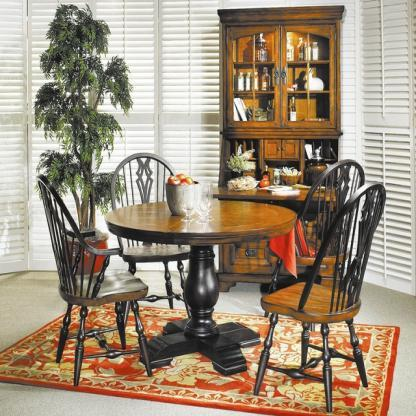chair: (263, 175, 386, 416), (29, 169, 146, 387), (269, 144, 377, 306), (107, 134, 191, 315)
table: (95, 188, 293, 377)
